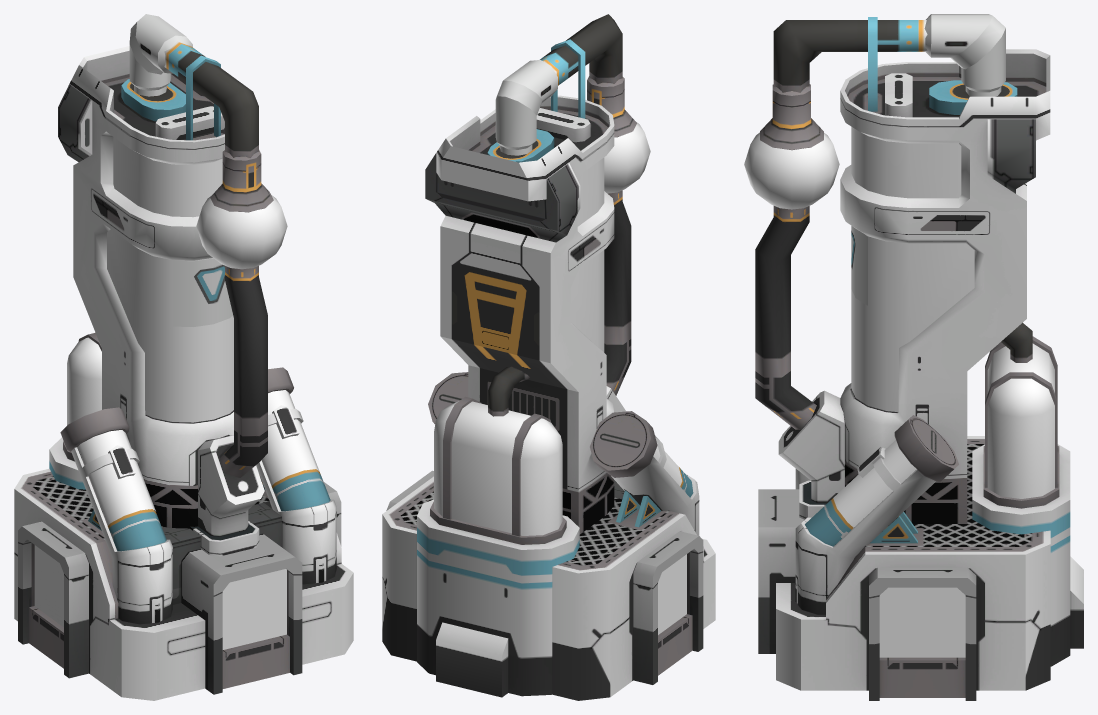
The model's file is fractionator.glb.
The picture shows the model from 3 angles, left to right: view 1: azimuth 30°, elevation 25°; view 2: azimuth 150°, elevation 25°; view 3: azimuth 270°, elevation 25°; orthographic projection. The views are drawn at different scales.
Parts seen in each view (by area): view 1: fractionator, fractionator-glass; view 2: fractionator, fractionator-glass; view 3: fractionator, fractionator-glass.
Part boxes in pixels (x1=…): fractionator: x1=14, y1=14, x2=353, y2=700; fractionator-glass: x1=67, y1=137, x2=319, y2=525; fractionator: x1=382, y1=14, x2=715, y2=700; fractionator-glass: x1=434, y1=121, x2=682, y2=535; fractionator: x1=755, y1=14, x2=1083, y2=700; fractionator-glass: x1=744, y1=127, x2=1054, y2=527.
Bounding box in the file's own units: 4.6 × 9.5 × 4.75.
4 materials, 3 textured.
